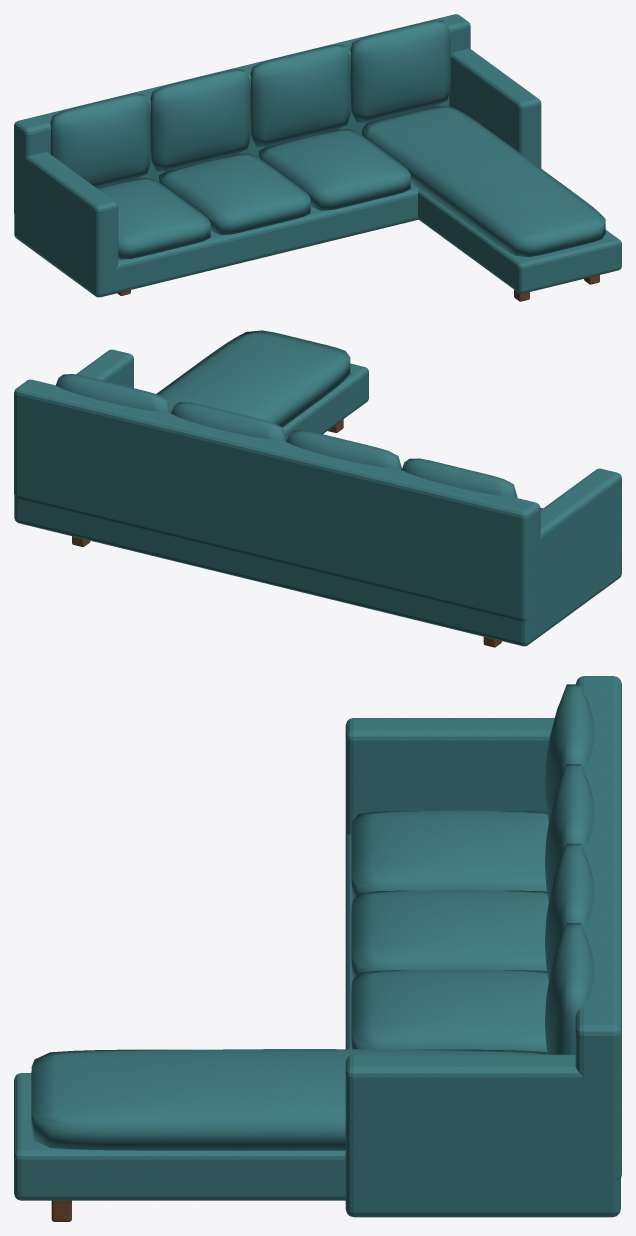
Rendered from home-sofa.glb.
3 views of the same model, one above another, from view 1: azimuth 30°, elevation 25°; view 2: azimuth 150°, elevation 25°; view 3: azimuth 270°, elevation 25° (orthographic). The views are drawn at different scales.
Visible parts, largest first — view 1: Continuous long chaise seat, Continuous main upholstered frame, Soft separate back cushion.001, Soft separate back cushion.003, Soft separate back cushion.002, Soft separate seat cushion.001, Soft separate seat cushion.002, Broad upholstered arm, Soft separate back cushion, Connected chaise extension frame, Broad upholstered arm.001, Soft separate seat cushion (+1 smaller); view 2: Sofa back frame, Continuous main upholstered frame, Continuous long chaise seat, Broad upholstered arm, Connected chaise extension frame, Soft separate back cushion, Soft separate back cushion.002, Soft separate back cushion.003, Soft separate back cushion.001, Broad upholstered arm.001; view 3: Broad upholstered arm.001, Continuous long chaise seat, Broad upholstered arm, Connected chaise extension frame, Sofa back frame, Soft separate seat cushion.001, Soft separate seat cushion, Soft separate seat cushion.002, Continuous main upholstered frame, Soft separate back cushion.003, Soft separate back cushion, Soft separate back cushion.001 (+1 smaller).
Boxes of the visible parts, left/top/right/bottom form: Continuous long chaise seat: left=362, top=105, right=605, bottom=256; Continuous main upholstered frame: left=14, top=167, right=541, bottom=297; Soft separate back cushion.001: left=150, top=69, right=250, bottom=171; Soft separate back cushion.003: left=350, top=20, right=450, bottom=122; Soft separate back cushion.002: left=250, top=45, right=350, bottom=146; Soft separate seat cushion.001: left=159, top=153, right=310, bottom=234; Soft separate seat cushion.002: left=259, top=129, right=410, bottom=210; Broad upholstered arm: left=14, top=152, right=118, bottom=275; Soft separate back cushion: left=50, top=93, right=150, bottom=188; Connected chaise extension frame: left=418, top=189, right=621, bottom=293; Broad upholstered arm.001: left=449, top=48, right=541, bottom=167; Soft separate seat cushion: left=97, top=178, right=210, bottom=259; Sofa back frame: left=14, top=379, right=540, bottom=621; Continuous main upholstered frame: left=14, top=496, right=621, bottom=646; Continuous long chaise seat: left=156, top=330, right=350, bottom=427; Broad upholstered arm: left=524, top=468, right=621, bottom=621; Connected chaise extension frame: left=283, top=363, right=368, bottom=439; Soft separate back cushion: left=401, top=458, right=517, bottom=497; Soft separate back cushion.002: left=171, top=402, right=286, bottom=441; Soft separate back cushion.003: left=56, top=374, right=171, bottom=413; Soft separate back cushion.001: left=286, top=430, right=401, bottom=469; Broad upholstered arm.001: left=14, top=349, right=133, bottom=496; Broad upholstered arm.001: left=345, top=1054, right=619, bottom=1181; Continuous long chaise seat: left=31, top=1049, right=547, bottom=1150; Broad upholstered arm: left=345, top=718, right=554, bottom=836; Connected chaise extension frame: left=14, top=1073, right=345, bottom=1200; Sofa back frame: left=575, top=676, right=621, bottom=1179; Soft separate seat cushion.001: left=351, top=890, right=548, bottom=979; Soft separate seat cushion: left=351, top=810, right=548, bottom=900; Soft separate seat cushion.002: left=351, top=969, right=548, bottom=1051; Continuous main upholstered frame: left=345, top=834, right=620, bottom=1217; Soft separate back cushion.003: left=545, top=923, right=593, bottom=1054; Soft separate back cushion: left=545, top=684, right=593, bottom=821; Soft separate back cushion.001: left=545, top=764, right=593, bottom=900.
Bounding box in the file's own units: 2.9 × 0.9 × 2.1.
Materials: 2 (2 with a texture image).
